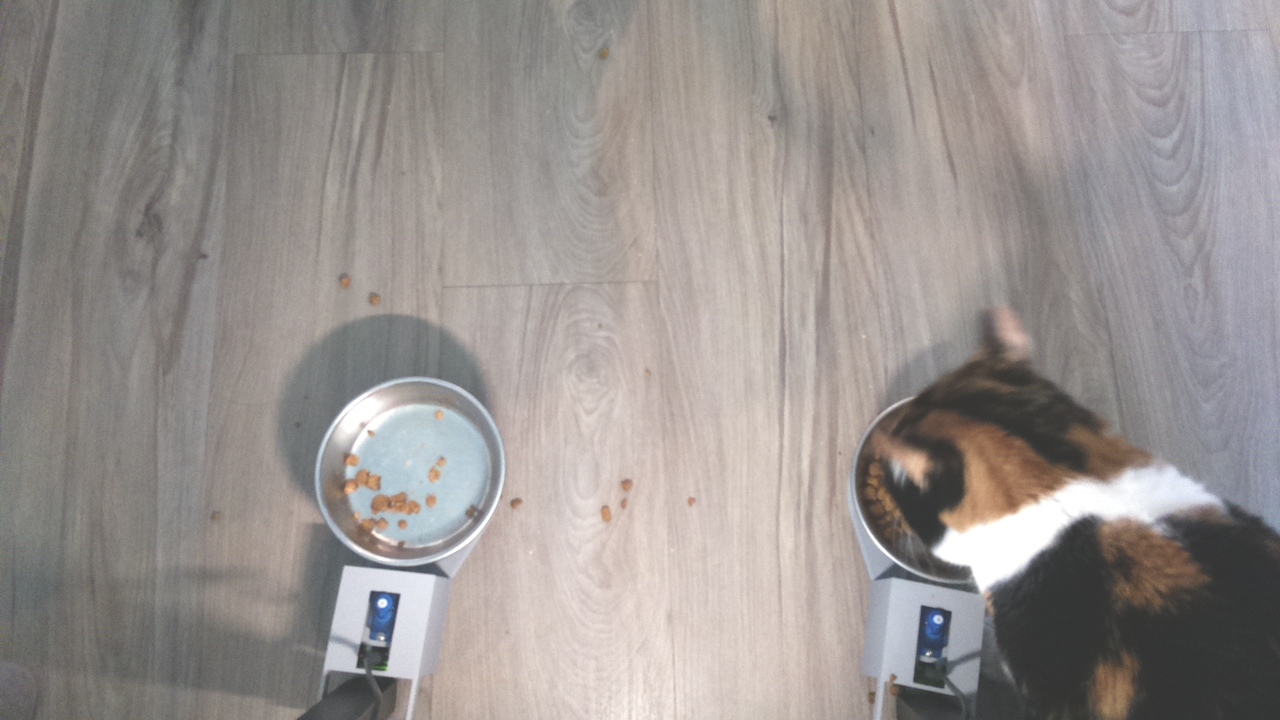bella_eating: (833, 299, 1161, 599)
open_bowl: (313, 373, 511, 568)
